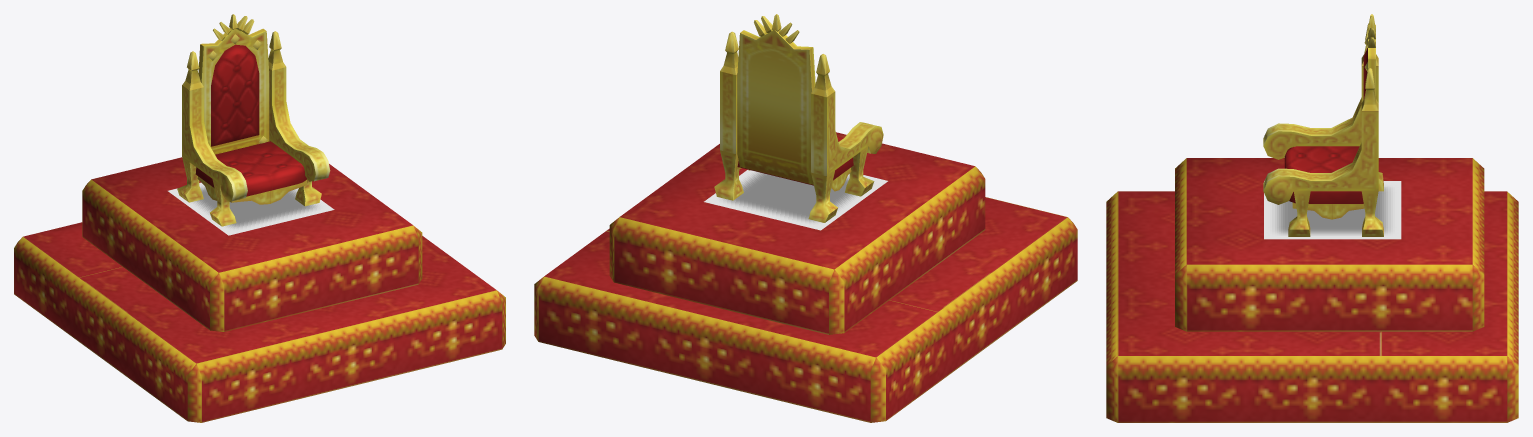
The model's file is Throne.fbx.
3 views of the same model, side by side, from view 1: azimuth 30°, elevation 25°; view 2: azimuth 150°, elevation 25°; view 3: azimuth 270°, elevation 25° (orthographic). The views are drawn at different scales.
Parts seen in each view (by area): view 1: It_008, It_008b2, shadow1; view 2: It_008, It_008b2, shadow1; view 3: It_008, It_008b2, shadow1.
Part boxes in pixels (x1,y1,x2,y2): It_008: (14,157,505,422); It_008b2: (177,14,330,226); shadow1: (168,182,334,235); It_008: (534,132,1077,422); It_008b2: (714,14,883,222); shadow1: (704,170,887,230); It_008: (1106,158,1518,422); It_008b2: (1263,14,1383,236); shadow1: (1264,181,1401,239).
Bounding box in the file's own units: 3 × 2.57 × 3.
